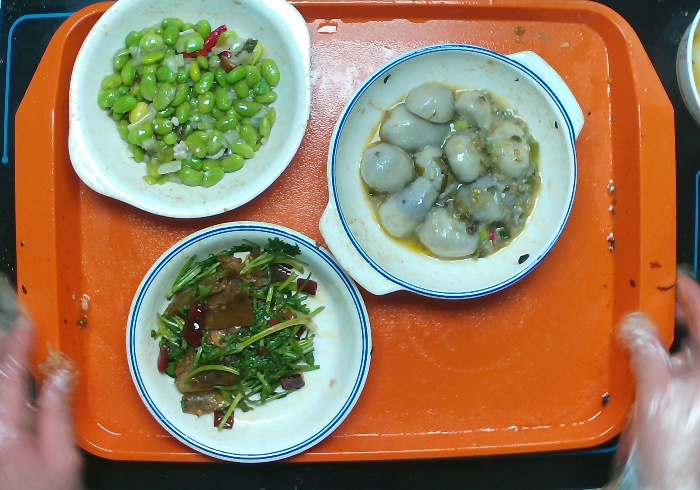HZYJPL-Dai_Er_Bai_Yuan_Wan: (58, 1, 316, 224)
HZYJPL-Lan_Bian_Dai_Er_Wan: (313, 38, 590, 310)
HZYJPL-Lan_Bian_Yuan_Die: (116, 214, 377, 473)
